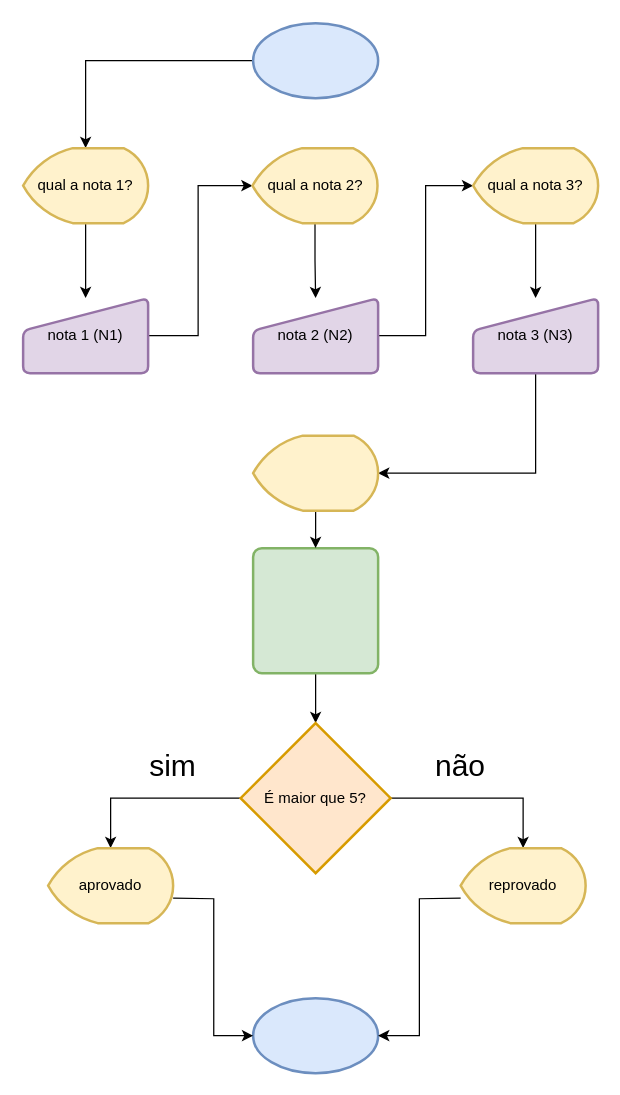
The diagram is 620 pixels wide and 1095 high, and some of its shapes have lost their labels. Each missing label, with the centre of its shape:
"(N1+N2+N3) ----------------- 3" goes at point 315,610.
"fim" goes at point 315,1035.
"inicio" goes at point 315,60.
"qual a média?" goes at point 315,472.
